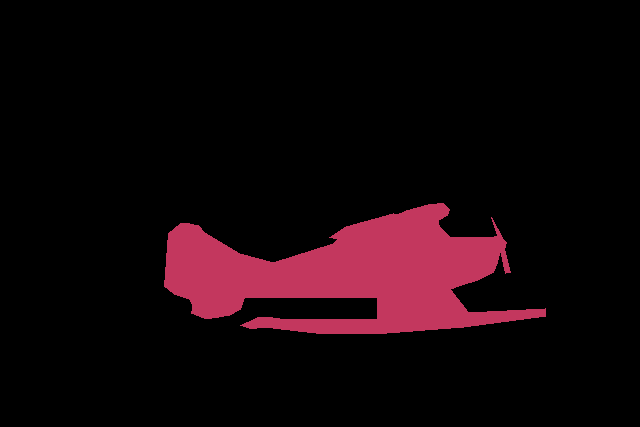Airplane: (164, 203, 545, 333)
